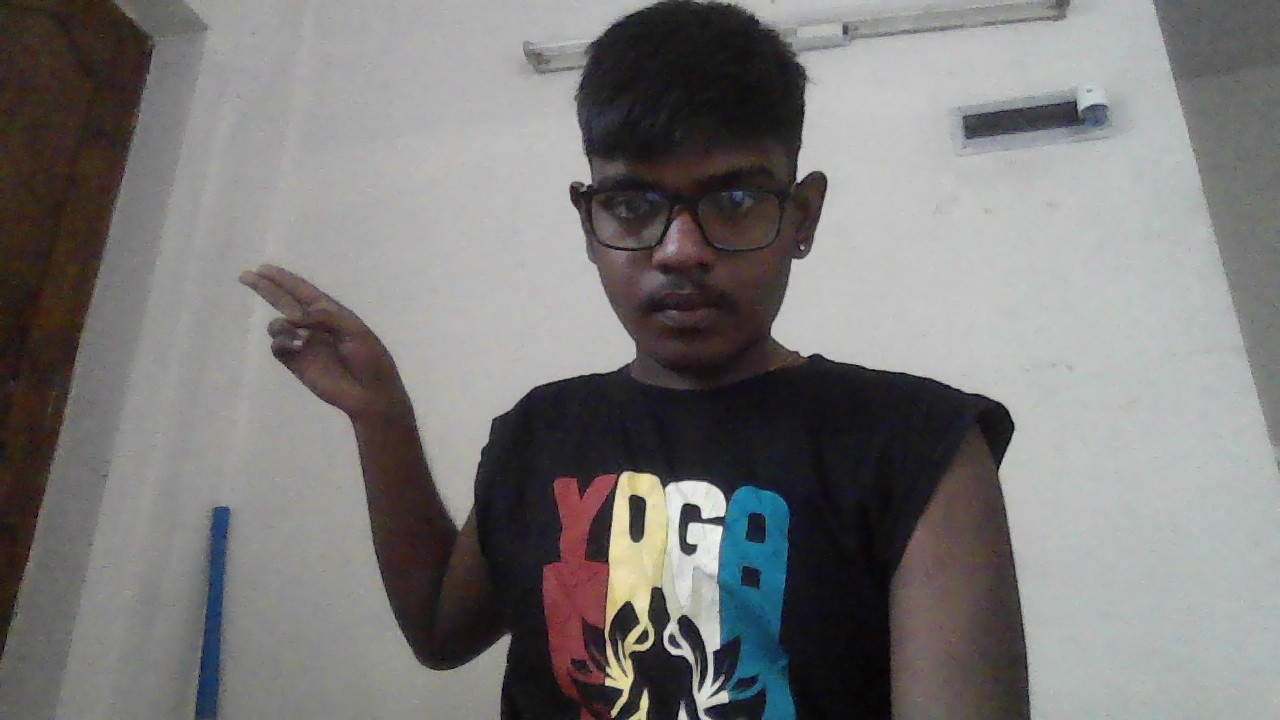H: (233, 264, 408, 418)
